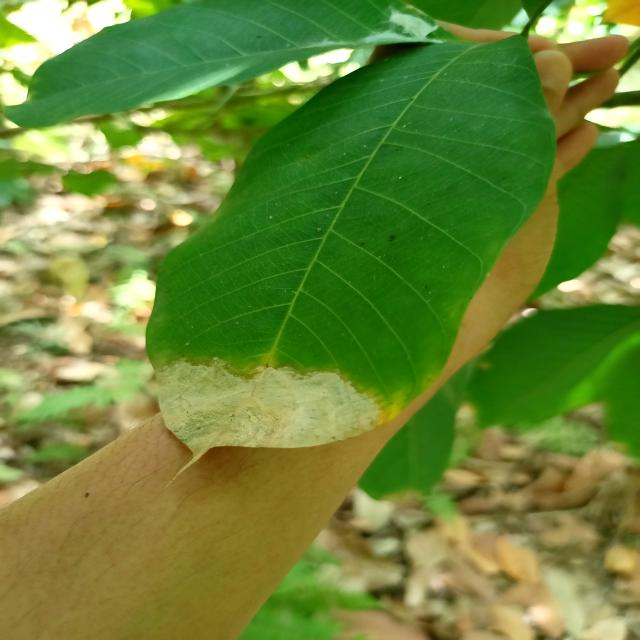Leaf-Blight: (156, 356, 388, 488)
